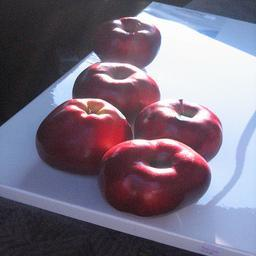apple: (93, 139, 213, 218), (33, 99, 130, 177), (132, 102, 222, 167), (72, 61, 161, 119), (90, 16, 161, 68)
